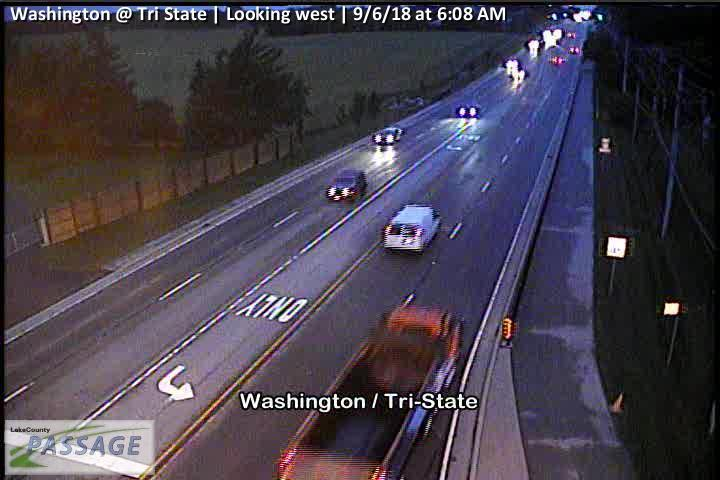SUV: (381, 204, 443, 253), (325, 168, 369, 203), (455, 102, 482, 118)
Sedan: (371, 125, 403, 144)
Truck: (274, 302, 464, 480)
